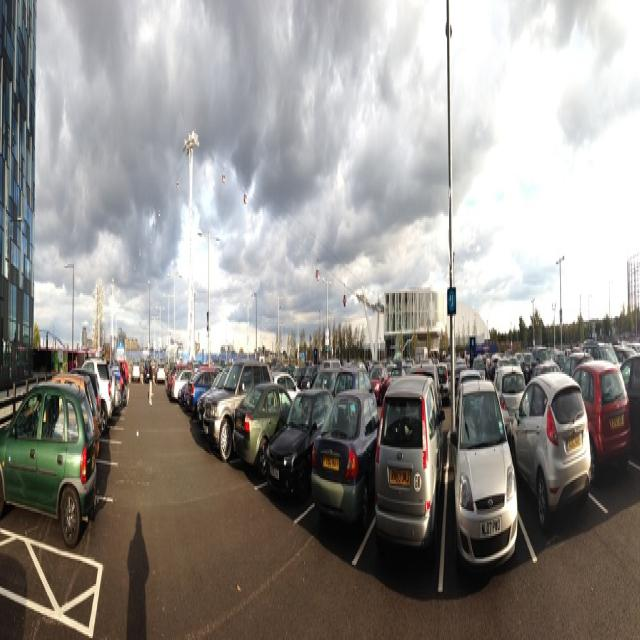car: (154, 367, 165, 392), (141, 357, 152, 378), (130, 355, 137, 370)
